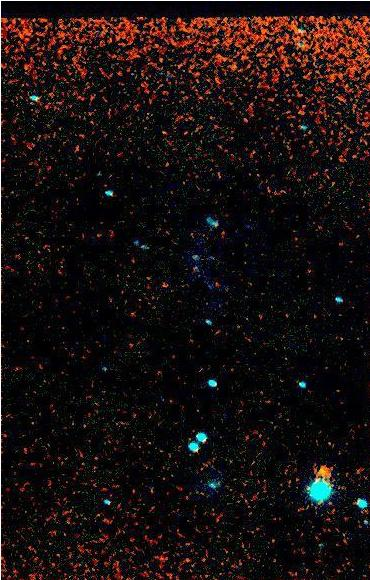star: (308, 455, 338, 485)
